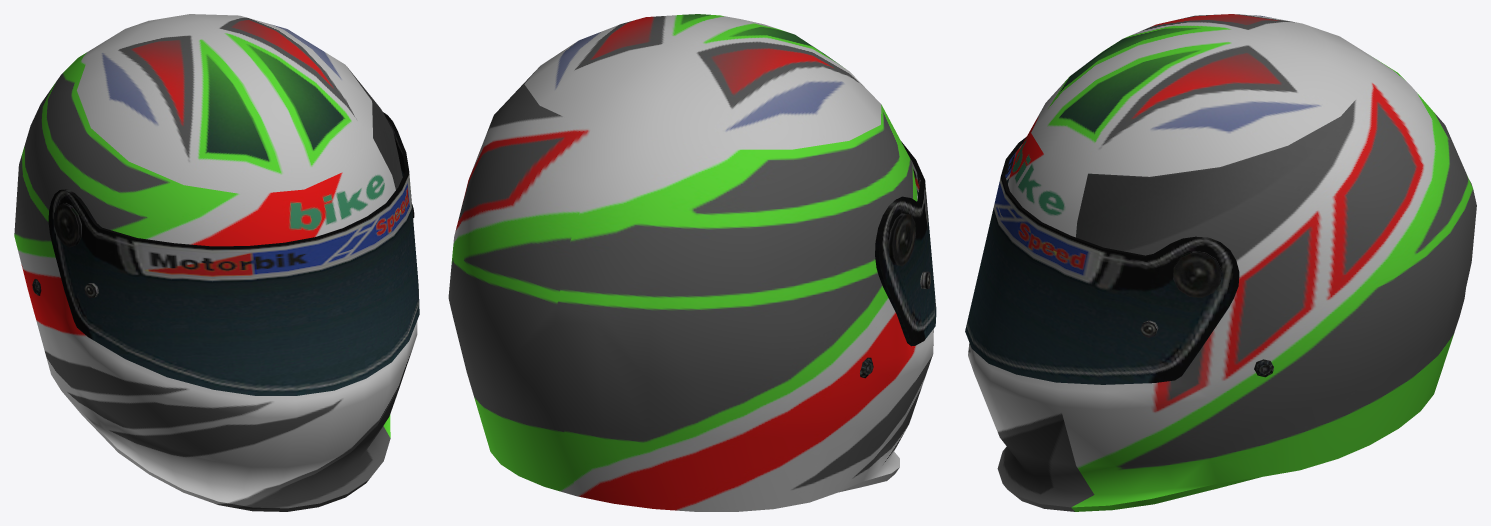
Rendered from Helmet 10.FBX.
3 views of the same model, side by side, from view 1: azimuth 30°, elevation 25°; view 2: azimuth 150°, elevation 25°; view 3: azimuth 270°, elevation 25° (orthographic). The views are drawn at different scales.
Visible parts, largest first — view 1: Helmet, Helmet window; view 2: Helmet, Helmet window; view 3: Helmet, Helmet window.
Part boxes in pixels (x1,y1,x2,y2): Helmet: (14, 14, 417, 511); Helmet window: (48, 112, 419, 395); Helmet: (448, 14, 933, 511); Helmet window: (875, 141, 936, 346); Helmet: (968, 14, 1476, 511); Helmet window: (965, 137, 1239, 384).
Bounding box in the file's own units: 16.47 × 18.9 × 20.
1 material, 1 textured.
